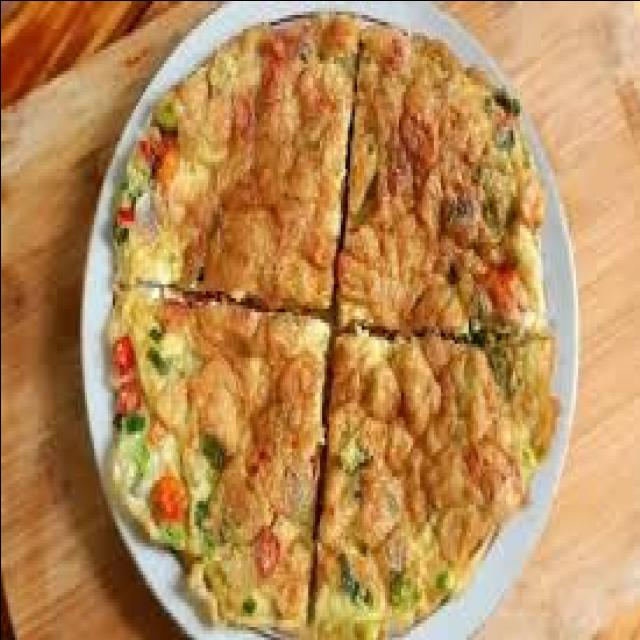telur dadar: (312, 322, 556, 640), (109, 287, 330, 626), (116, 17, 354, 315), (335, 28, 549, 343)
